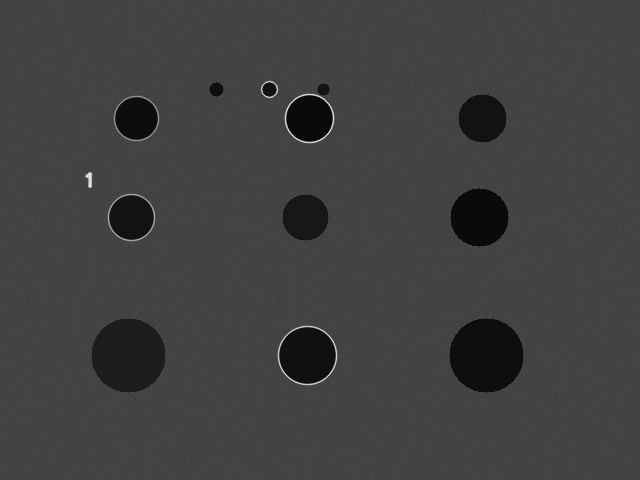hole: (91, 318, 165, 392), (449, 318, 523, 392), (450, 188, 508, 246), (278, 326, 336, 384), (285, 94, 333, 142), (458, 94, 506, 142), (108, 194, 154, 240), (282, 194, 328, 240), (114, 96, 158, 140), (261, 81, 277, 97), (209, 82, 223, 96), (317, 83, 329, 95)
